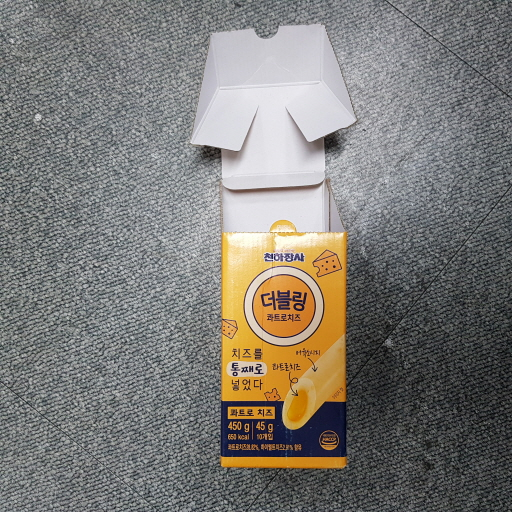Paper_0: (186, 18, 366, 476)
